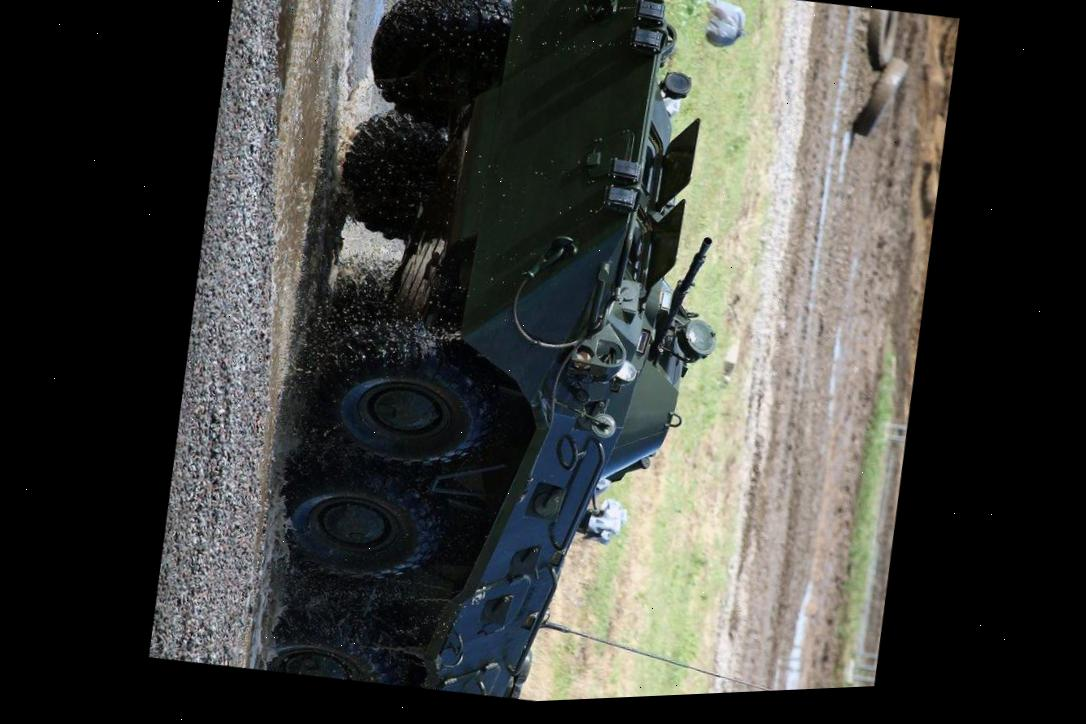tank: (236, 0, 781, 714)
